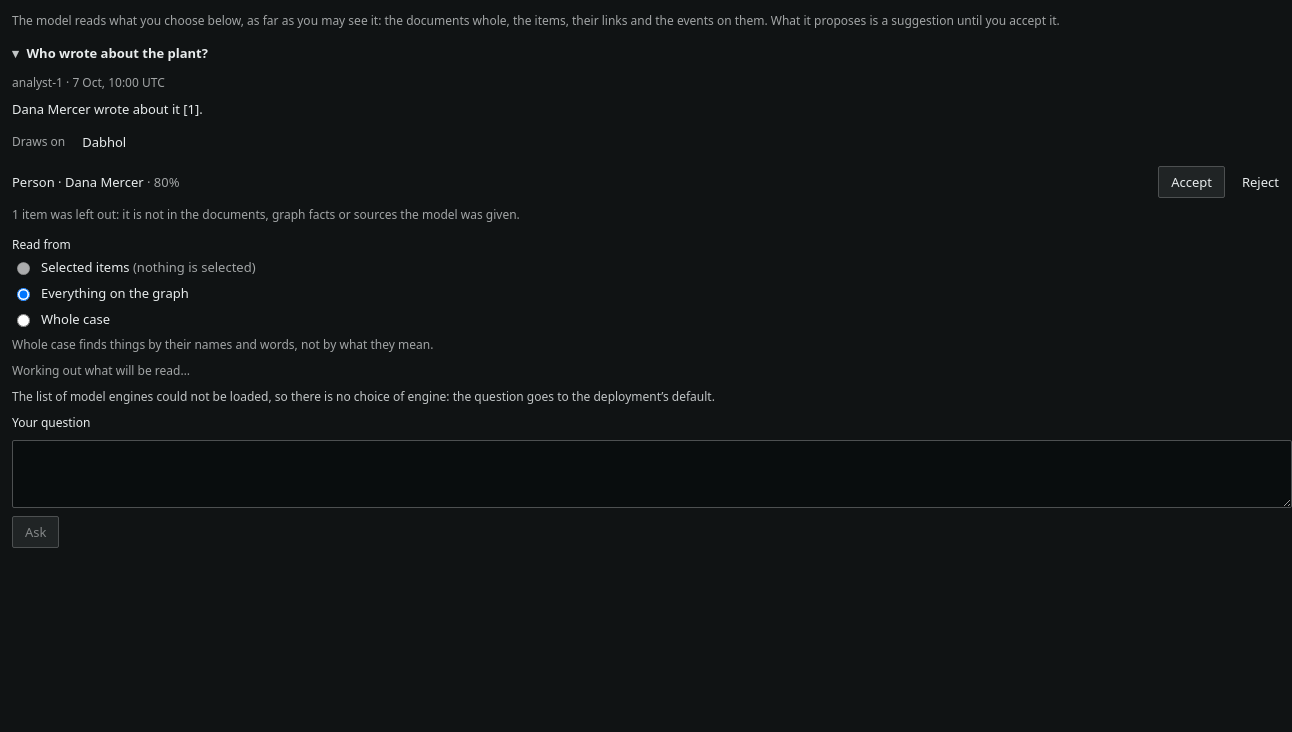
Test case: QuestionsPanel › rejecting a proposal writes nothing to the view and marks it rejected
The width and height of the screenshot is (1292, 732).
Click the button with aria-label "Reject Person · Dana Mercer" at (1260, 182), box [1229, 166, 1291, 198]
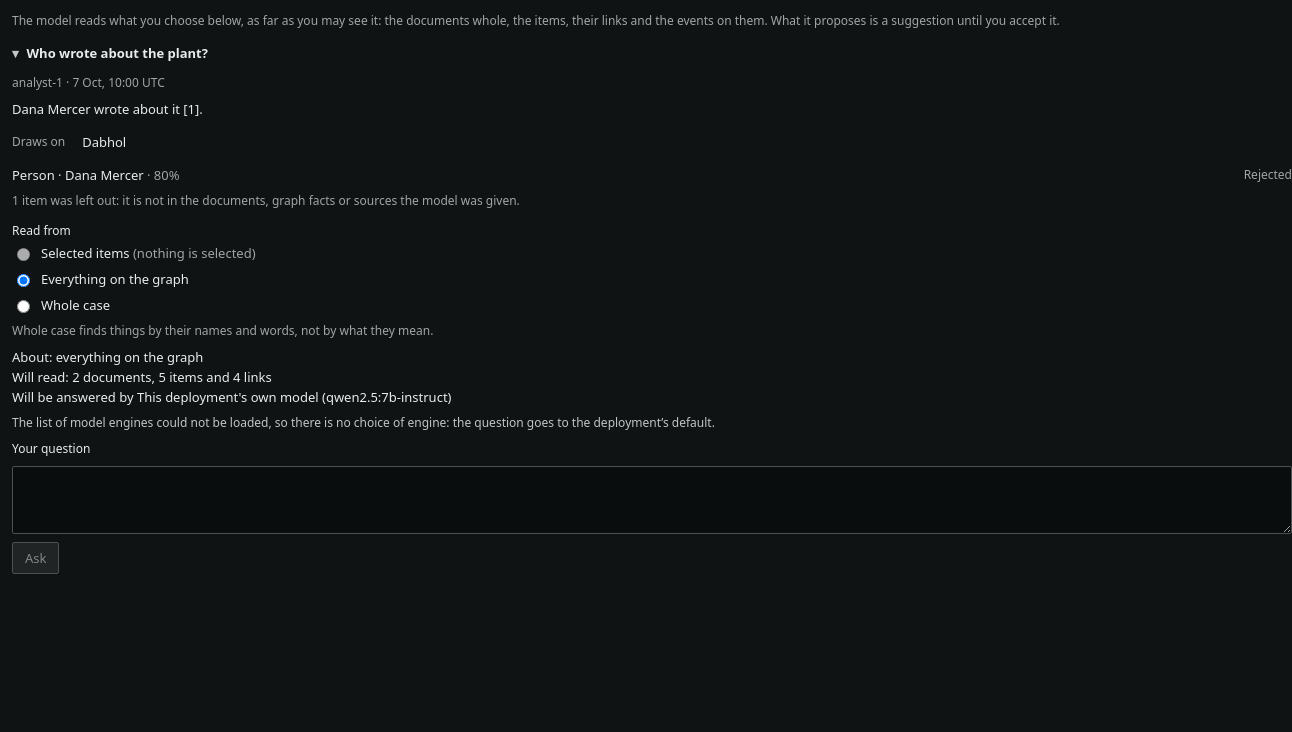
Result: the text "Rejected" is shown at [1244, 166, 1291, 184]
